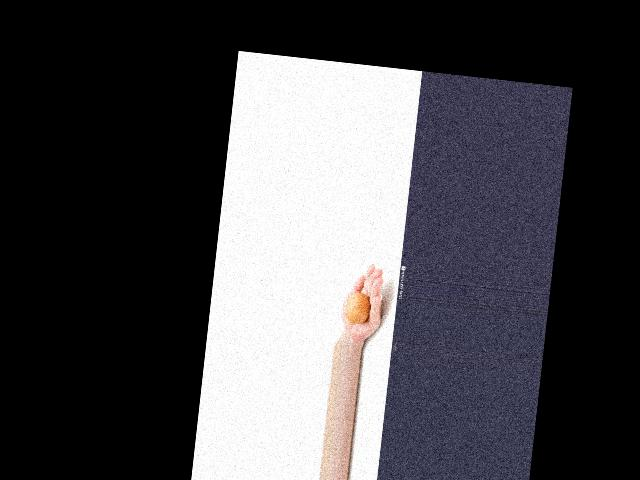egg: (343, 291, 371, 325)
